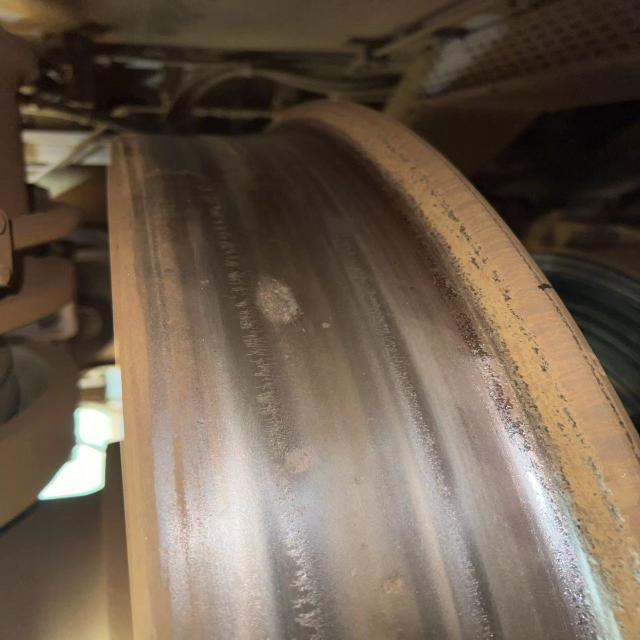geshang: (247, 268, 305, 330)
